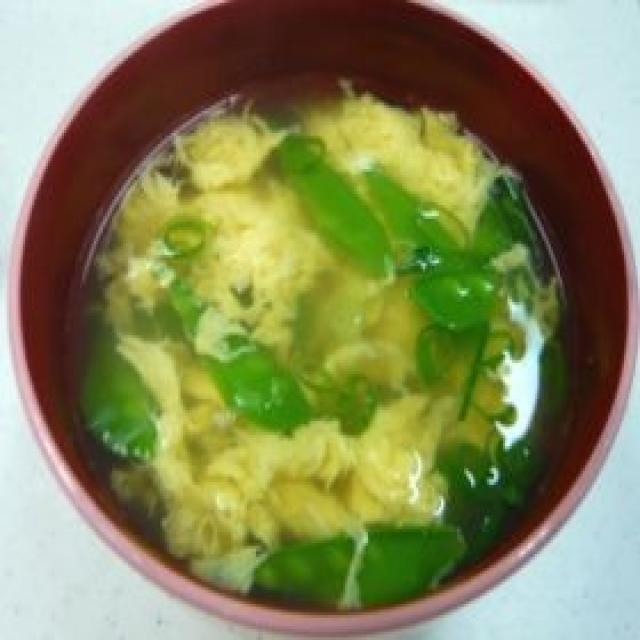汤锅炖物: (0, 0, 635, 640)
